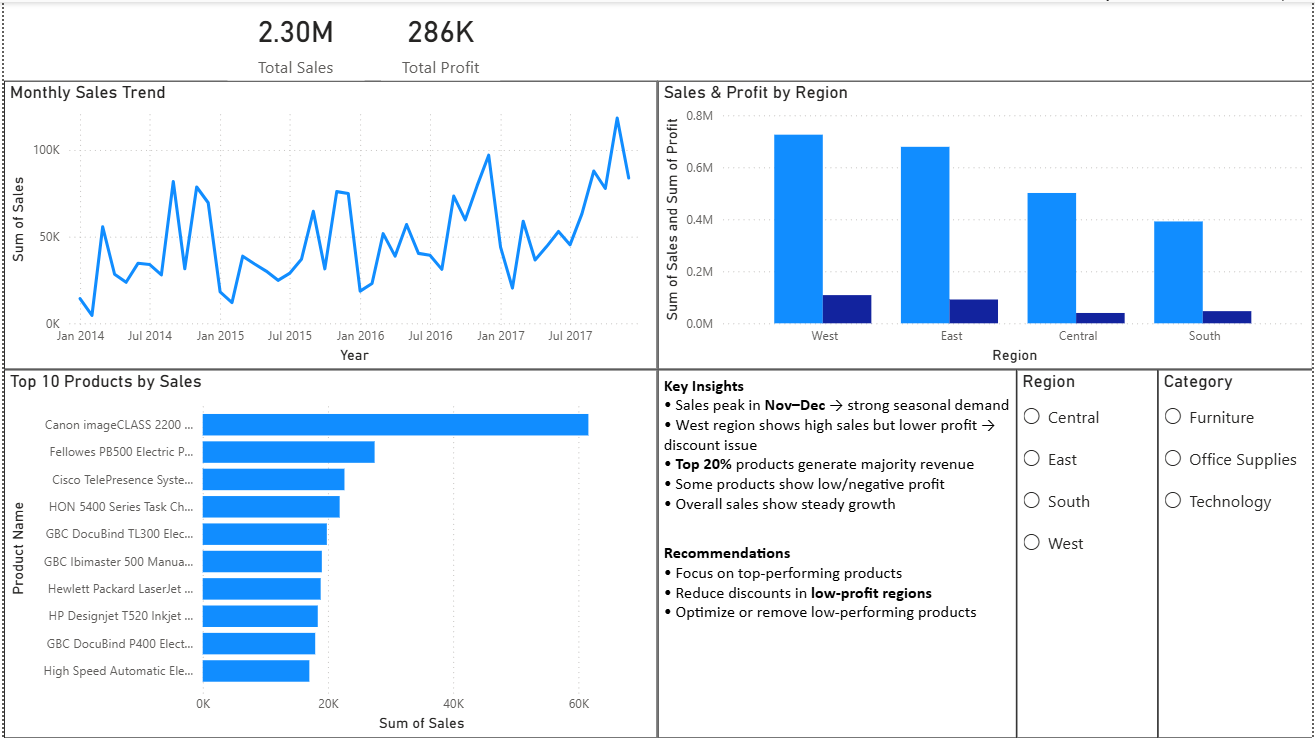

The dashboard page shown, as its layout file describes it:
{"tool":"powerbi","page":{"name":"Page 1","canvas":[1280,720],"ordinal":0},"visuals":[{"type":"lineChart","title":"Monthly Sales Trend","fields":{"Category":["Sample___Superstore_1.Order Date.Variation.Date Hierarchy.Year","Sample___Superstore_1.Order Date.Variation.Date Hierarchy.Month"],"Y":["Sum(Sample___Superstore_1.Sales)"]},"box":[0,77,639.5,282.5],"z":0},{"type":"clusteredColumnChart","title":"Sales & Profit by Region","fields":{"Category":["Sample___Superstore_1.Region"],"Y":["Sum(Sample___Superstore_1.Sales)","Sum(Sample___Superstore_1.Profit)"]},"box":[639.5,77,640.8,282.5],"z":1},{"type":"barChart","title":"Top 10 Products by Sales","fields":{"Category":["Sample___Superstore_1.Product Name"],"Y":["Sum(Sample___Superstore_1.Sales)"]},"box":[0,359.5,639.5,360.7],"z":2},{"type":"listSlicer","fields":{"Values":["Sample___Superstore_1.Region"]},"box":[990.5,359.5,138.2,360.7],"z":3},{"type":"listSlicer","fields":{"Values":["Sample___Superstore_1.Category"]},"box":[1128.7,359.5,151.6,360.7],"z":4},{"type":"card","fields":{"Values":["Sum(Sample___Superstore_1.Sales)"]},"box":[218.9,0,133.3,77],"z":5},{"type":"card","fields":{"Values":["Sum(Sample___Superstore_1.Profit)"]},"box":[369.3,0,116.2,77],"z":6},{"type":"textbox","box":[639.5,359.5,351,360.7],"z":7}]}

Visuals, with their boxes in screenshot pixels (x1, y1, x2, y2), scaled from the page's 1280x720 canvas onto the 1315x738 screenshot:
"Monthly Sales Trend" lineChart: 0,79,657,368
"Sales & Profit by Region" clusteredColumnChart: 657,79,1314,368
"Top 10 Products by Sales" barChart: 0,368,657,737
listSlicer - Sample___Superstore_1.Region: 1018,368,1160,737
listSlicer - Sample___Superstore_1.Category: 1160,368,1314,737
card - Sum(Sample___Superstore_1.Sales): 225,0,362,79
card - Sum(Sample___Superstore_1.Profit): 379,0,499,79
textbox: 657,368,1018,737
